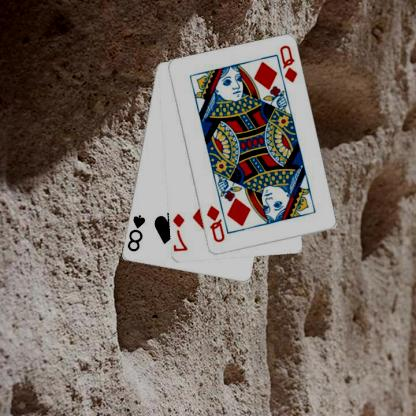7D: (172, 211, 190, 252)
8S: (126, 212, 148, 253)
QD: (205, 203, 228, 244), (278, 43, 300, 84)
